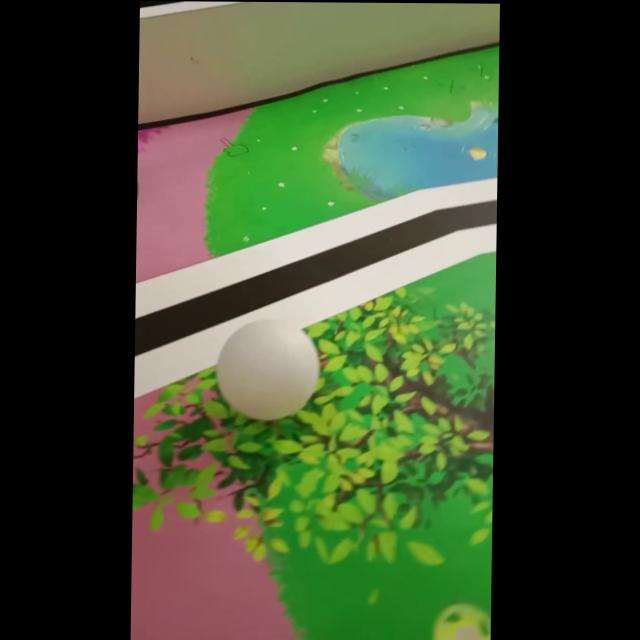white ball: (215, 318, 320, 422)
